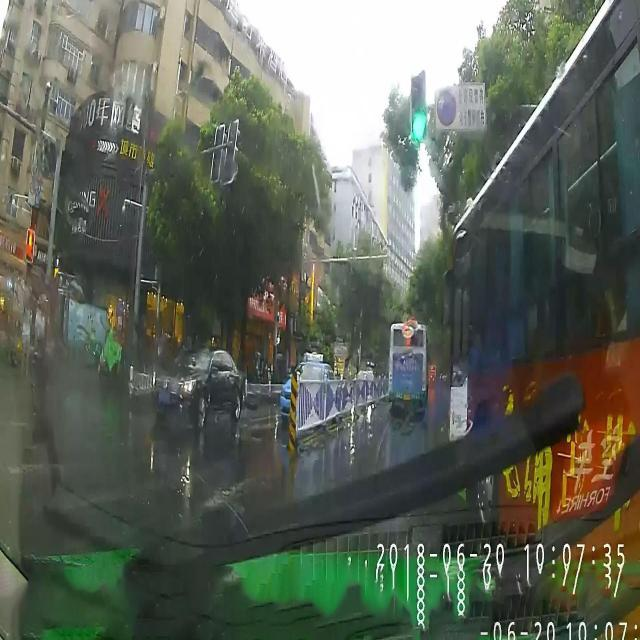car: (151, 343, 244, 428), (278, 352, 336, 425)
